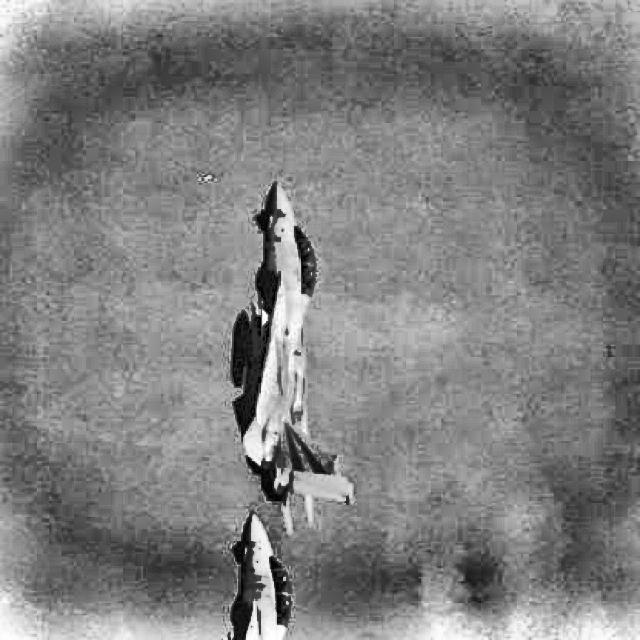F14: (231, 180, 354, 534), (217, 509, 294, 640)
